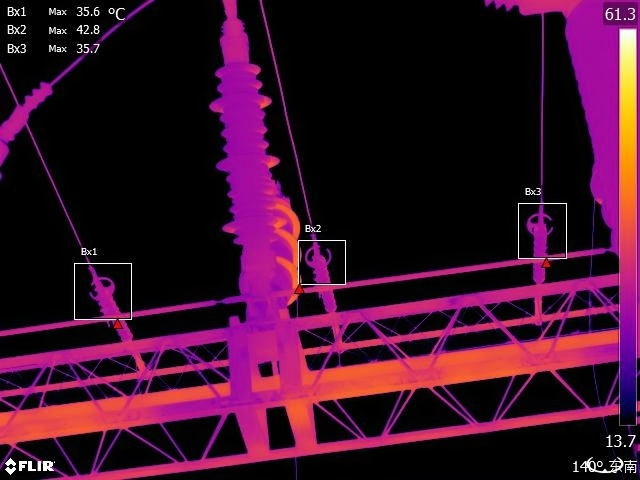insulator: (88, 271, 140, 343), (303, 238, 339, 313), (522, 209, 557, 283)
post insulator: (207, 52, 284, 260), (265, 195, 305, 298)
